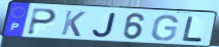6: (122, 13, 147, 41)
G: (150, 14, 180, 42)
J: (90, 12, 118, 39)
K: (60, 9, 88, 38)
L: (181, 16, 205, 43)
P: (25, 7, 58, 37)
